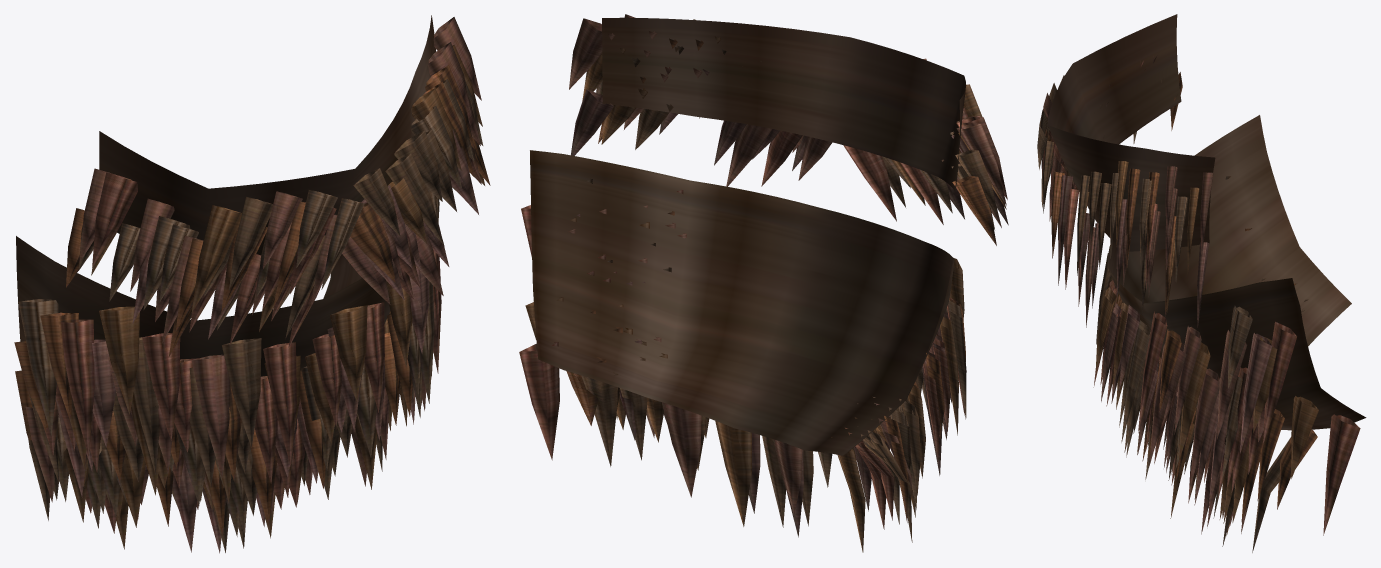
Rendered from cavanhaque.glb.
The picture shows the model from 3 angles, left to right: view 1: azimuth 30°, elevation 25°; view 2: azimuth 150°, elevation 25°; view 3: azimuth 270°, elevation 25°; orthographic projection. The views are drawn at different scales.
Visible parts, largest first — view 1: barba_cavanhaque; view 2: barba_cavanhaque; view 3: barba_cavanhaque.
Part boxes in pixels (<box>): barba_cavanhaque: <box>14,15,490,553</box>; barba_cavanhaque: <box>519,14,1008,552</box>; barba_cavanhaque: <box>1037,14,1366,552</box>.
Size of the model in its own units: 0.1291 by 0.1382 by 0.092.
1 material, 1 textured.
